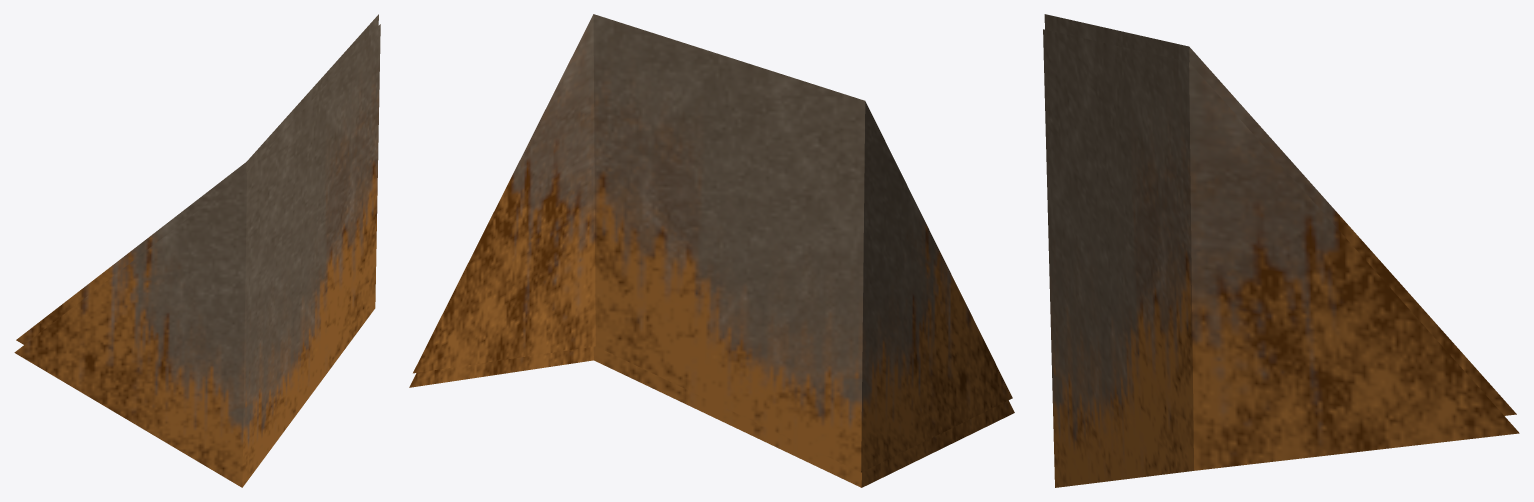
The model's file is Bottle_03.FBX.
3 views of the same model, side by side, from view 1: azimuth 30°, elevation 25°; view 2: azimuth 150°, elevation 25°; view 3: azimuth 270°, elevation 25° (orthographic). The views are drawn at different scales.
Visible parts, largest first — view 1: Object011; view 2: Object011; view 3: Object011.
Part boxes in pixels (bbox=[...]): Object011: bbox=[14, 14, 380, 487]; Object011: bbox=[409, 14, 1014, 487]; Object011: bbox=[1043, 14, 1519, 487].
Bounding box in the file's own units: 79.64 × 74.05 × 56.12.
Materials: 1 (1 with a texture image).
